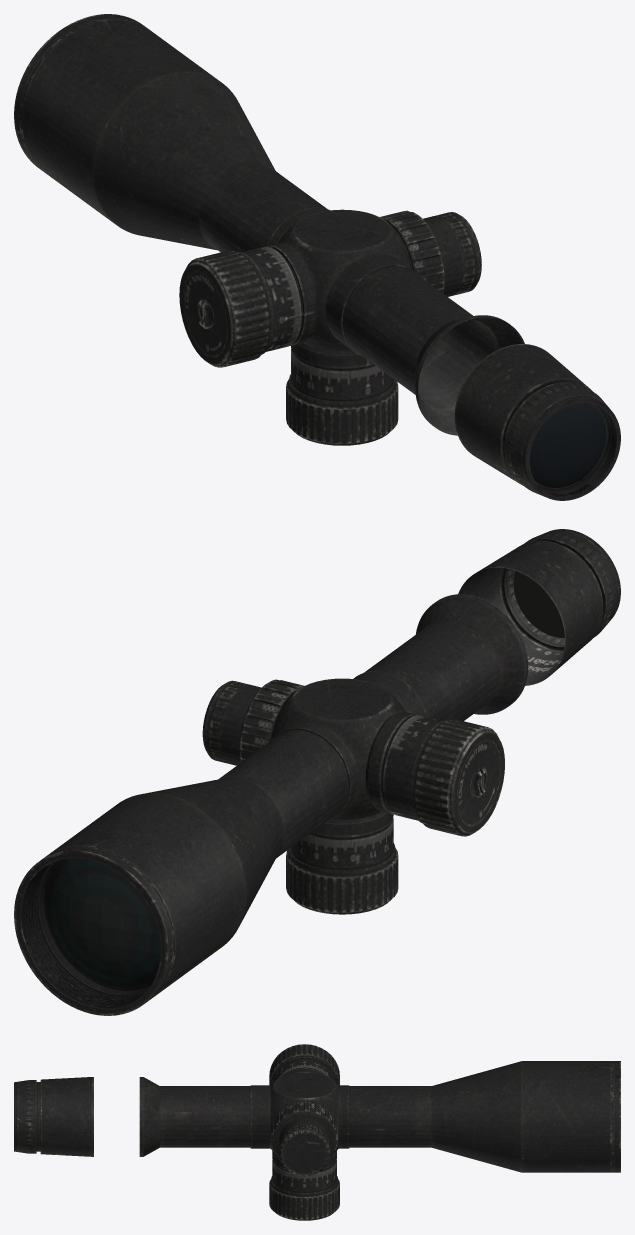
The picture shows the model from 3 angles, top to bottom: view 1: azimuth 30°, elevation 25°; view 2: azimuth 150°, elevation 25°; view 3: azimuth 270°, elevation 25°; orthographic projection. The views are drawn at different scales.
Visible parts, largest first — view 1: TW_56ea70acd2720b844b8b4594_PZ_Import; view 2: TW_56ea70acd2720b844b8b4594_PZ_Import; view 3: TW_56ea70acd2720b844b8b4594_PZ_Import.
Part boxes in pixels (<box>): TW_56ea70acd2720b844b8b4594_PZ_Import: <box>14,14,620,500</box>; TW_56ea70acd2720b844b8b4594_PZ_Import: <box>14,529,620,1015</box>; TW_56ea70acd2720b844b8b4594_PZ_Import: <box>14,1044,620,1220</box>.
Size of the model in its own units: 0.0604 by 0.1931 by 0.0503.
1 material, 1 textured.
